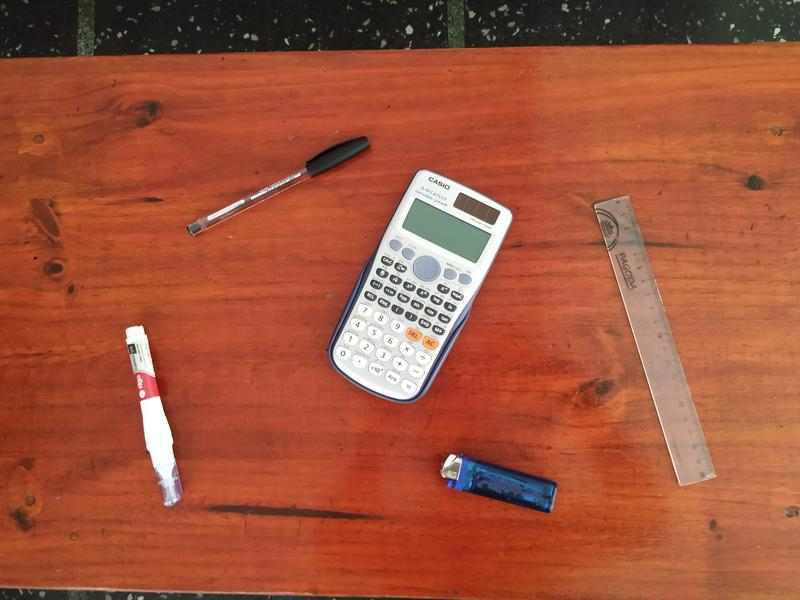calculadora: (324, 163, 518, 401)
corrector: (113, 316, 195, 514)
encendedor: (422, 441, 565, 517)
lapicera: (182, 131, 373, 241)
regla: (586, 187, 723, 490)
